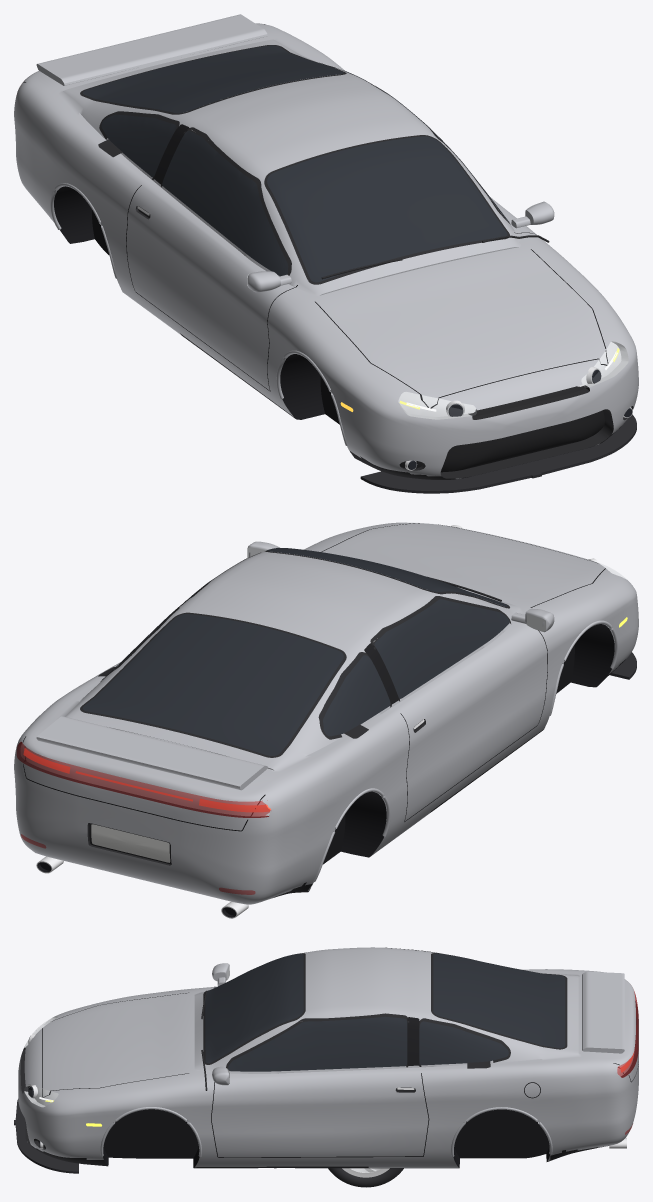
File: umbra.glb
3 views of the same model, one above another, from view 1: azimuth 30°, elevation 25°; view 2: azimuth 150°, elevation 25°; view 3: azimuth 270°, elevation 25° (orthographic). The views are drawn at different scales.
Visible parts, largest first — view 1: Body; view 2: Body; view 3: Body, TyreF.
Boxes of the visible parts, left/top/right/bottom form: Body: left=14, top=14, right=638, bottom=493; Body: left=14, top=522, right=638, bottom=918; Body: left=14, top=947, right=638, bottom=1173; TyreF: left=328, top=1168, right=403, bottom=1187.
Bounding box in the file's own units: 1.96 × 1.69 × 4.59.
